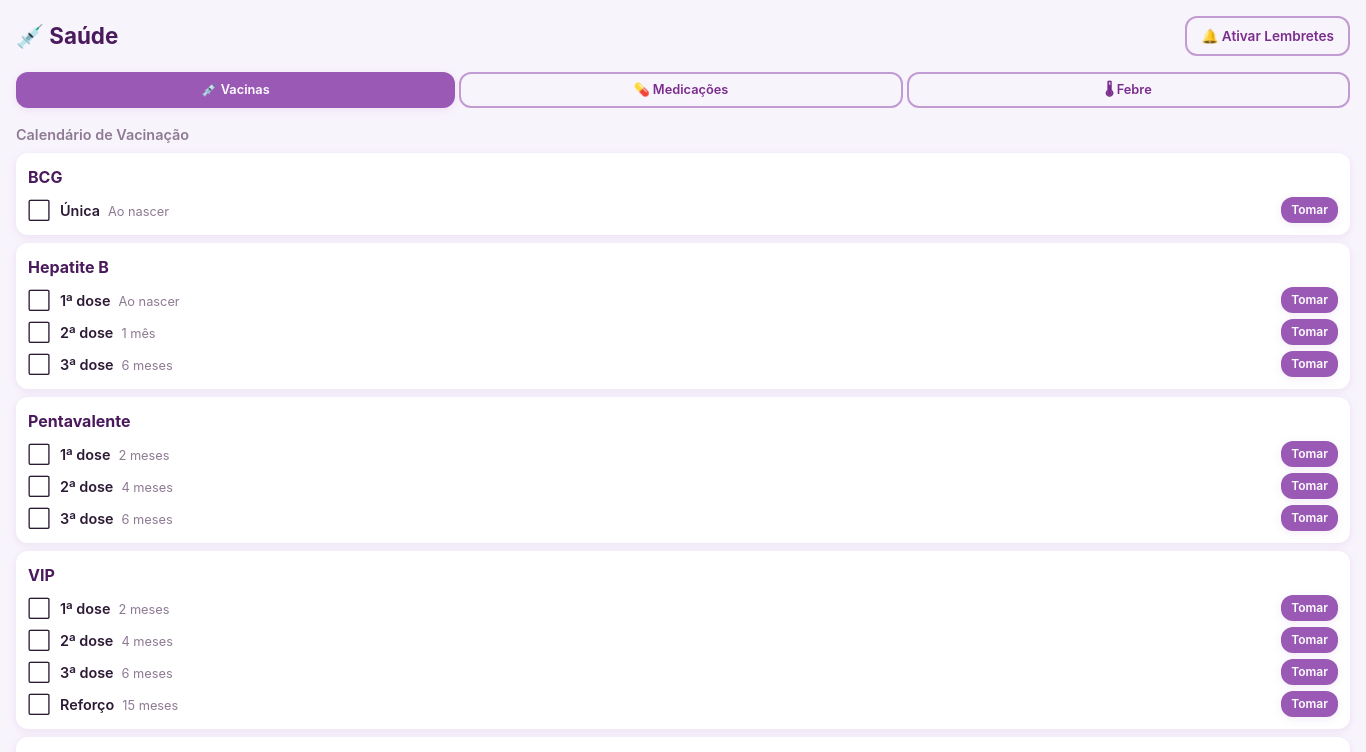
Health › switches to fever tab
Click the button "🌡 Febre" at (1128, 90), box [907,72,1350,108]
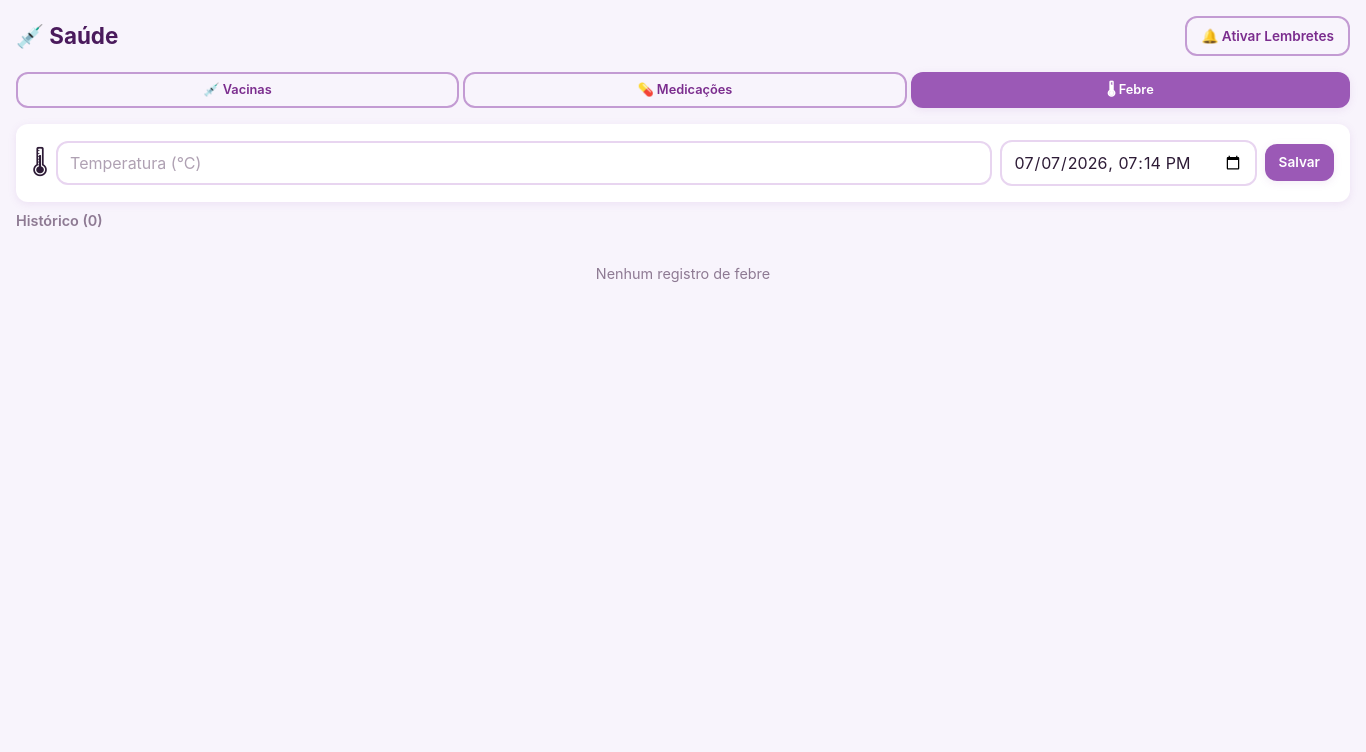
Expected: the number field with placeholder "Temperatura (°C)" is shown, [56,141,992,185]
